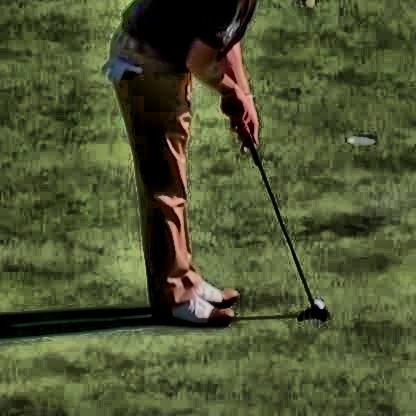golfball: (309, 296, 319, 306)
